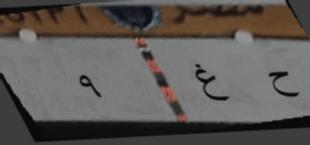7aa: (266, 64, 299, 104)
9: (78, 71, 102, 107)
ghayn: (191, 56, 229, 108)
